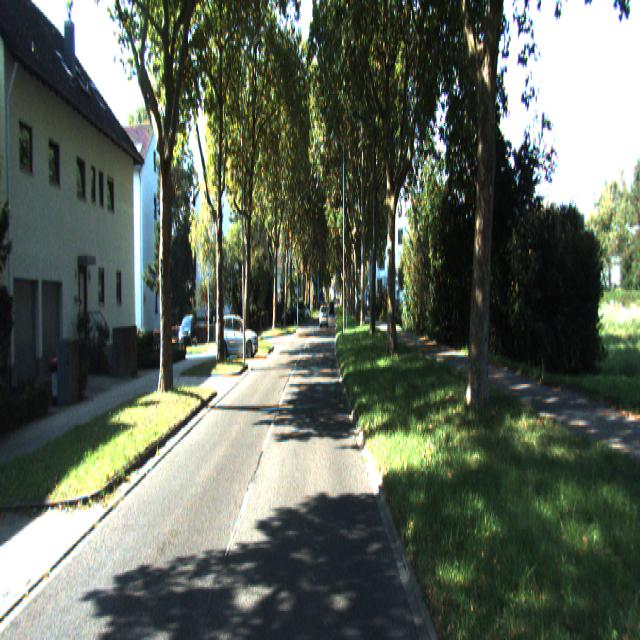Car: (214, 312, 260, 357)
